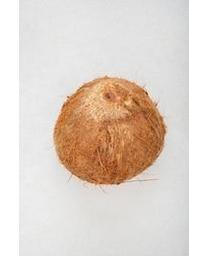coconut: (53, 77, 165, 184)
